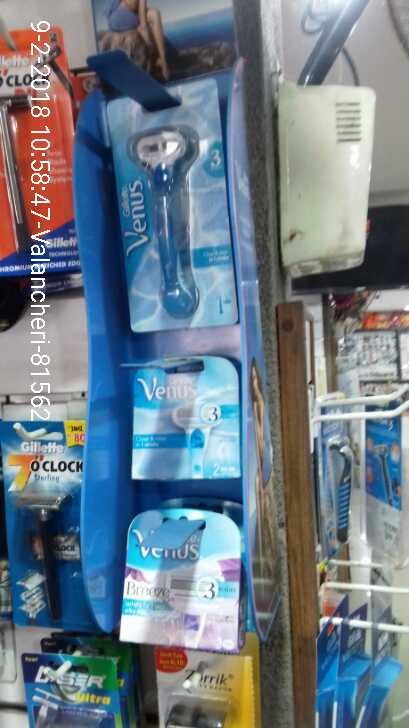beauty: (102, 84, 248, 334), (4, 420, 114, 629), (122, 508, 244, 654), (135, 355, 250, 480)
